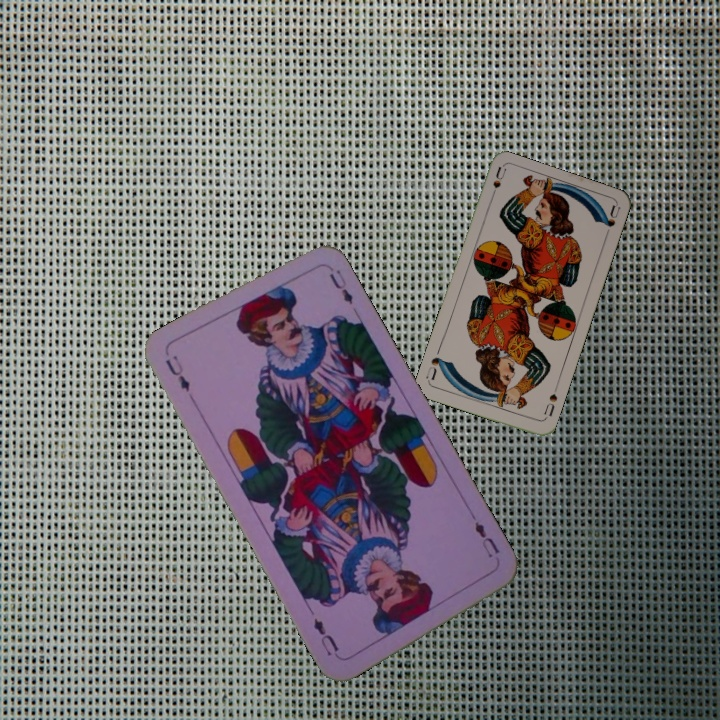EU: (470, 517, 502, 561), (161, 351, 193, 395)
SU: (486, 164, 508, 204), (540, 382, 560, 422)
